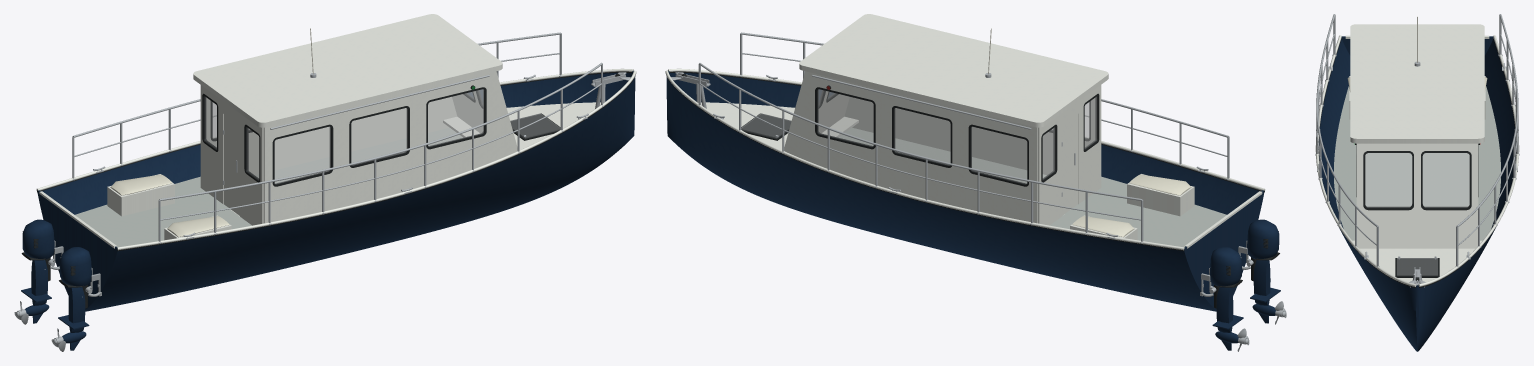
The model's file is innerscene_cabin_cruiser.glb.
3 views of the same model, side by side, from view 1: azimuth 30°, elevation 25°; view 2: azimuth 150°, elevation 25°; view 3: azimuth 270°, elevation 25° (orthographic). The views are drawn at different scales.
Visible parts, largest first — view 1: Finite lofted hull and transom, Cruiser salon overhanging finite roof, Cruiser salon side -1 cut wall, Seated continuous cockpit deck, Cruiser salon side 1 cut wall, Cruiser salon rear cut wall, Cruiser salon side -1 opening 2 finite glazing, Cruiser salon side -1 opening 1 finite glazing, Cruiser salon side -1 opening 3 finite glazing, Finite rolled gunwale -1, Raised foredeck platform, Cruiser salon recessed closed boarding door (+21 smaller); view 2: Finite lofted hull and transom, Cruiser salon overhanging finite roof, Cruiser salon side 1 cut wall, Seated continuous cockpit deck, Cruiser salon side -1 cut wall, Cruiser salon rear cut wall, Cruiser salon side 1 opening 2 finite glazing, Cruiser salon side 1 opening 1 finite glazing, Cruiser salon side 1 opening 3 finite glazing, Finite rolled gunwale 1, Raised foredeck platform, Cruiser salon recessed closed boarding door (+21 smaller); view 3: Cruiser salon overhanging finite roof, Seated continuous cockpit deck, Finite lofted hull and transom, Cruiser salon raked front cut wall, Cruiser salon raked front opening 1 finite glazing, Cruiser salon raked front opening 2 finite glazing, Raised foredeck platform, Finite rolled gunwale 1, Finite rolled gunwale -1, Foredeck closed hatch frame, Foredeck finite hatch glazing, Peripheral rail 1 continuous handrail (+7 smaller).
Boxes of the visible parts, left/top/right/bottom form: Finite lofted hull and transom: left=37, top=71, right=635, bottom=311; Cruiser salon overhanging finite roof: left=193, top=14, right=502, bottom=127; Cruiser salon side -1 cut wall: left=263, top=71, right=517, bottom=223; Seated continuous cockpit deck: left=75, top=127, right=462, bottom=247; Cruiser salon side 1 cut wall: left=206, top=97, right=456, bottom=174; Cruiser salon rear cut wall: left=200, top=85, right=263, bottom=225; Cruiser salon side -1 opening 2 finite glazing: left=351, top=108, right=407, bottom=165; Cruiser salon side -1 opening 1 finite glazing: left=275, top=127, right=330, bottom=183; Cruiser salon side -1 opening 3 finite glazing: left=428, top=89, right=483, bottom=146; Finite rolled gunwale -1: left=117, top=70, right=636, bottom=250; Raised foredeck platform: left=443, top=102, right=600, bottom=149; Cruiser salon recessed closed boarding door: left=223, top=114, right=239, bottom=215; Finite lofted hull and transom: left=666, top=71, right=1264, bottom=311; Cruiser salon overhanging finite roof: left=799, top=14, right=1108, bottom=127; Cruiser salon side 1 cut wall: left=784, top=71, right=1037, bottom=223; Seated continuous cockpit deck: left=839, top=128, right=1226, bottom=247; Cruiser salon side -1 cut wall: left=845, top=97, right=1095, bottom=174; Cruiser salon rear cut wall: left=1038, top=85, right=1101, bottom=225; Cruiser salon side 1 opening 2 finite glazing: left=894, top=108, right=950, bottom=165; Cruiser salon side 1 opening 1 finite glazing: left=971, top=127, right=1026, bottom=183; Cruiser salon side 1 opening 3 finite glazing: left=818, top=89, right=873, bottom=146; Finite rolled gunwale 1: left=665, top=70, right=1184, bottom=250; Raised foredeck platform: left=701, top=102, right=858, bottom=149; Cruiser salon recessed closed boarding door: left=1062, top=114, right=1078, bottom=215; Cruiser salon overhanging finite roof: left=1350, top=24, right=1484, bottom=143; Seated continuous cockpit deck: left=1334, top=86, right=1500, bottom=240; Finite lofted hull and transom: left=1319, top=36, right=1515, bottom=351; Cruiser salon raked front cut wall: left=1358, top=143, right=1476, bottom=248; Cruiser salon raked front opening 1 finite glazing: left=1423, top=153, right=1469, bottom=207; Cruiser salon raked front opening 2 finite glazing: left=1365, top=153, right=1411, bottom=207; Raised foredeck platform: left=1352, top=240, right=1482, bottom=282; Finite rolled gunwale 1: left=1418, top=35, right=1519, bottom=286; Finite rolled gunwale -1: left=1315, top=35, right=1416, bottom=286; Foredeck closed hatch frame: left=1395, top=258, right=1439, bottom=277; Foredeck finite hatch glazing: left=1397, top=258, right=1437, bottom=275; Peripheral rail 1 continuous handrail: left=1456, top=14, right=1518, bottom=226.
Size of the model in its own units: 10.24 by 4.01 by 3.14.
11 materials, 11 textured.
